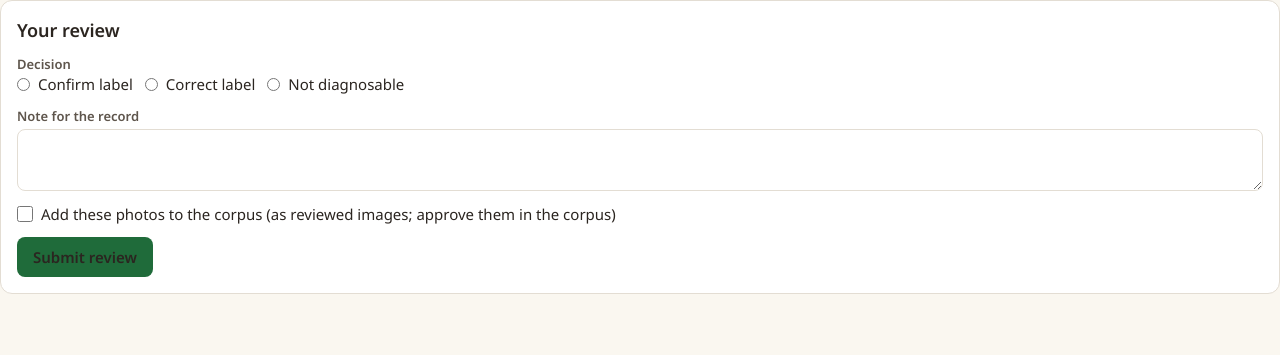
Test: C60 review form validation › needs a decision and a note
Click the button "Submit review".
click(85, 257)  # box x1=17 y1=237 x2=153 y2=277
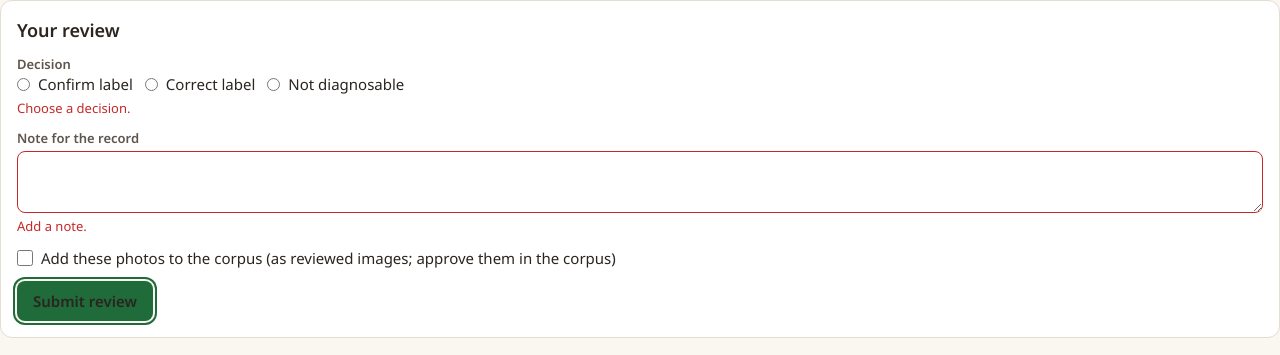
expect the text "Choose a decision." is shown: met, box x1=17 y1=99 x2=130 y2=117
expect the text "Add a note." is shown: met, box x1=17 y1=217 x2=87 y2=235
